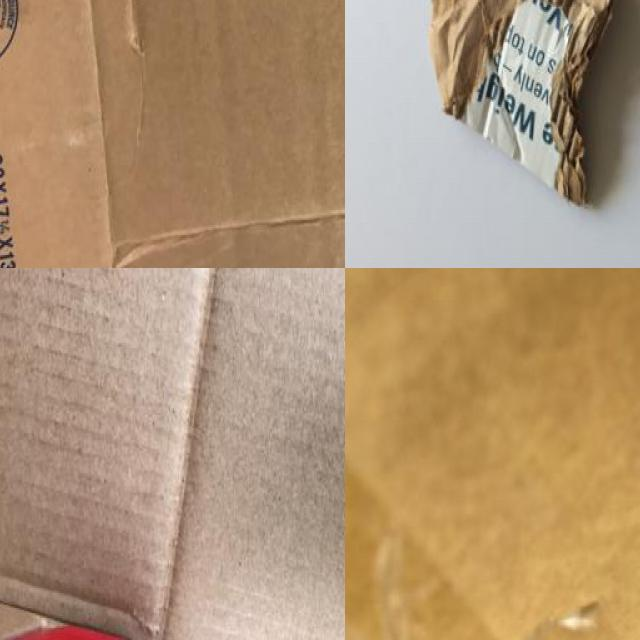class_name: (0, 268, 345, 640), (345, 268, 640, 640), (0, 0, 345, 268), (424, 0, 633, 213)
